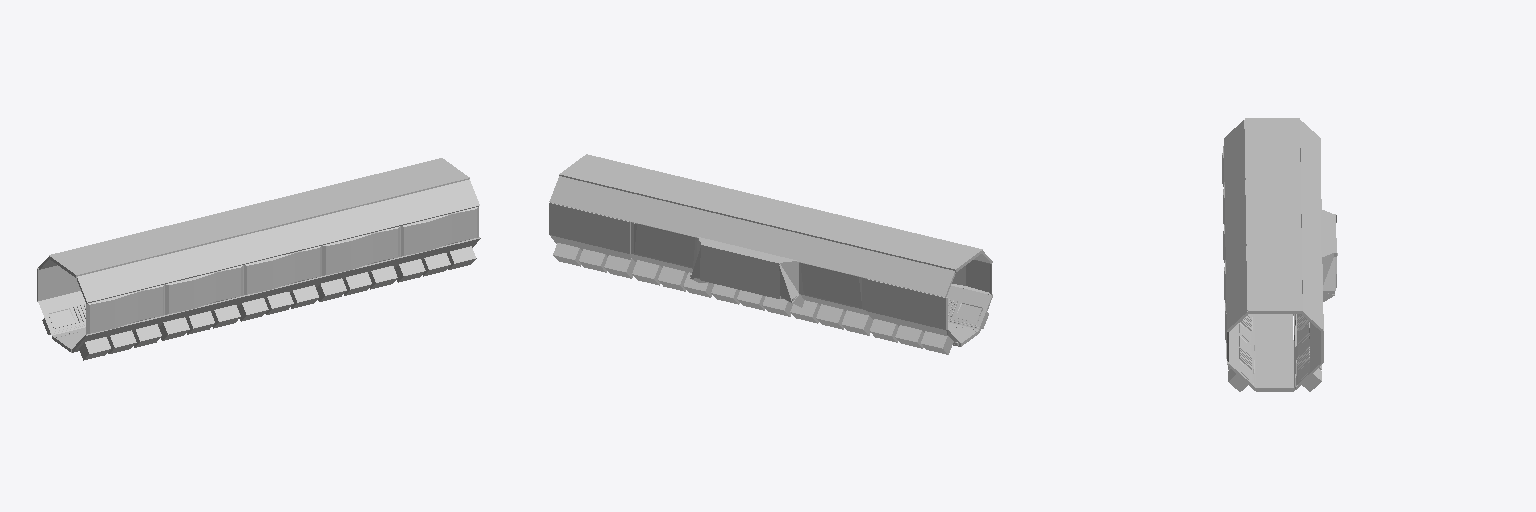
File: Portfolio 2.0 English.obj
3 renders of one model, left to right at view 1: azimuth 30°, elevation 25°; view 2: azimuth 150°, elevation 25°; view 3: azimuth 270°, elevation 25°, orthographic.
Parts seen in each view (by area): view 1: Cube.016, Cube.001, Cube.061, Cube.014, Cube.052, Cube.060, Cube.037, Cube.029, Cube.053, Cube.015, Cube.038, Cube.030 (+3 smaller); view 2: Cube.016, Cube.018, Cube.009, Cube.050, Cube.041, Cube.061, Cube.053, Cube.030, Cube.038, Cube.015, Cube.060, Cube.056 (+3 smaller); view 3: Cube.016, Cube, Cube.053, Cube.061, Cube.038, Cube.030, Cube.015, Cube.001, Cube.041, Cube.043, Cube.009, Cube.018.
Boxes of the visible parts, box(x1,y1,x2,y2) form: Cube.016: box(49, 158, 469, 278); Cube.001: box(72, 237, 480, 352); Cube.061: box(38, 257, 165, 303); Cube.014: box(243, 246, 321, 295); Cube.052: box(400, 207, 478, 256); Cube.060: box(86, 284, 164, 334); Cube.037: box(322, 226, 399, 275); Cube.029: box(165, 265, 242, 314); Cube.053: box(392, 179, 479, 225); Cube.015: box(234, 218, 322, 264); Cube.038: box(313, 199, 400, 244); Cube.030: box(156, 238, 243, 283); Cube.016: box(559, 154, 982, 272); Cube.018: box(631, 222, 868, 314); Cube.009: box(690, 237, 797, 300); Cube.050: box(866, 279, 960, 346); Cube.041: box(549, 203, 636, 261); Cube.061: box(866, 251, 992, 297); Cube.053: box(549, 176, 637, 220); Cube.030: box(787, 233, 875, 278); Cube.038: box(629, 195, 717, 238); Cube.015: box(708, 214, 796, 257); Cube.060: box(951, 260, 991, 294); Cube.056: box(921, 303, 988, 354); Cube.016: box(1245, 118, 1302, 313); Cube: box(1255, 314, 1293, 391); Cube.053: box(1226, 273, 1322, 331); Cube.061: box(1224, 120, 1320, 176); Cube.038: box(1226, 235, 1322, 291); Cube.030: box(1224, 158, 1321, 214); Cube.015: box(1225, 197, 1321, 252); Cube.001: box(1226, 314, 1255, 390); Cube.041: box(1294, 314, 1323, 390); Cube.043: box(1228, 361, 1321, 391); Cube.009: box(1321, 209, 1336, 293); Cube.018: box(1294, 215, 1337, 346).
Bounding box in the file's own units: 308 × 61.83 × 77.46.